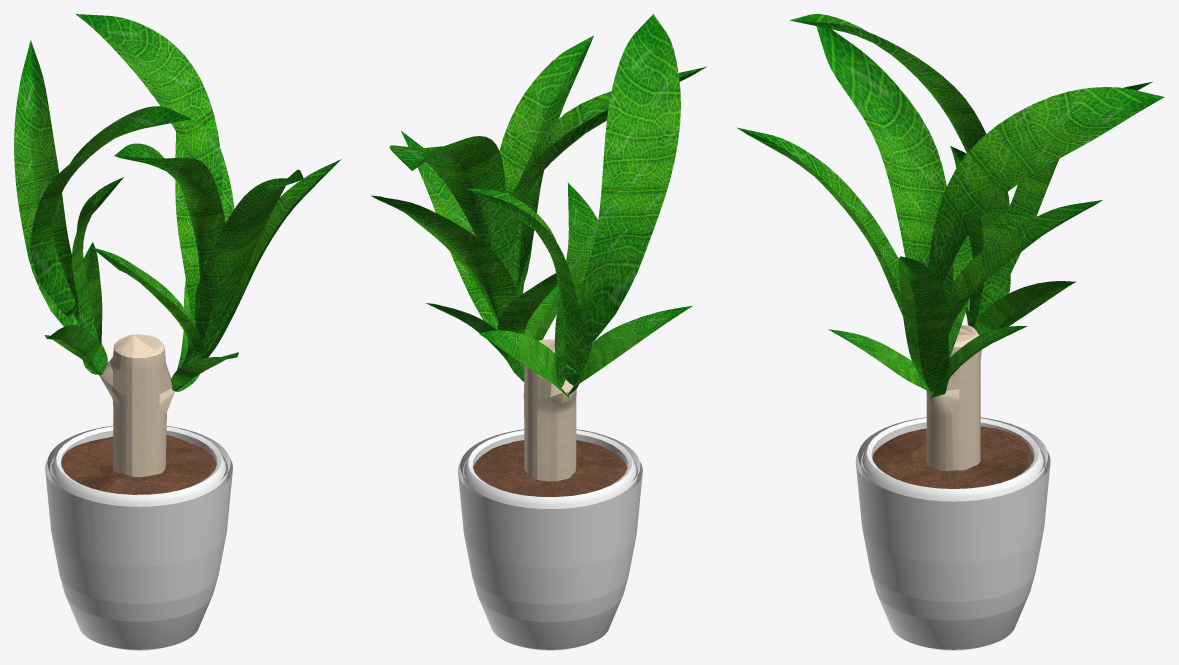
Rendered from planta.obj.
3 views of the same model, side by side, from view 1: azimuth 30°, elevation 25°; view 2: azimuth 150°, elevation 25°; view 3: azimuth 270°, elevation 25° (orthographic). The views are drawn at different scales.
Parts seen in each view (by area): view 1: initialShadingGroupMesh7; view 2: initialShadingGroupMesh7; view 3: initialShadingGroupMesh7.
Boxes of the visible parts, x1,y1,x2,y2 form: initialShadingGroupMesh7: [14, 14, 341, 650]; initialShadingGroupMesh7: [371, 14, 706, 650]; initialShadingGroupMesh7: [737, 14, 1164, 650].
Size of the model in its own units: 1.1 by 2.04 by 1.33.
Materials: 4 (4 with a texture image).
